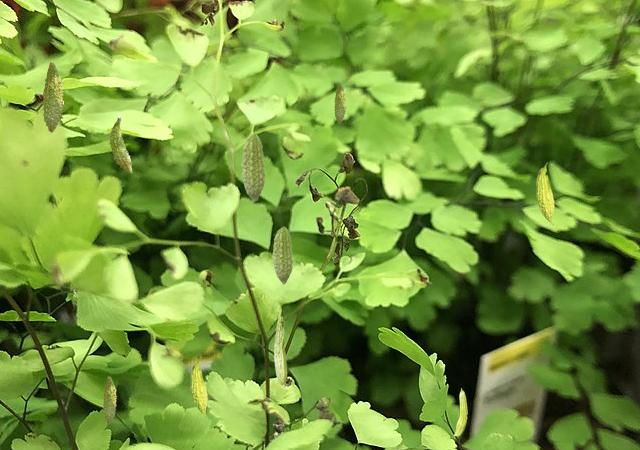ampalaya: (240, 132, 265, 202), (41, 61, 64, 133), (108, 114, 132, 173), (272, 226, 293, 284), (536, 162, 554, 225), (190, 356, 208, 417), (273, 316, 287, 386), (453, 387, 468, 436), (102, 376, 117, 424), (333, 82, 347, 124)
